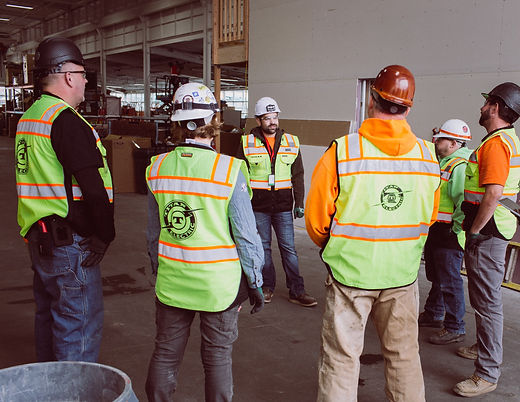Helmet: (165, 80, 237, 170), (26, 32, 98, 113), (361, 58, 427, 122), (468, 78, 520, 141), (429, 113, 478, 160), (246, 90, 288, 137)
Reflective vest: (323, 130, 440, 289), (144, 149, 250, 317), (14, 93, 116, 243), (462, 131, 520, 243), (238, 130, 307, 196), (437, 150, 470, 229)
